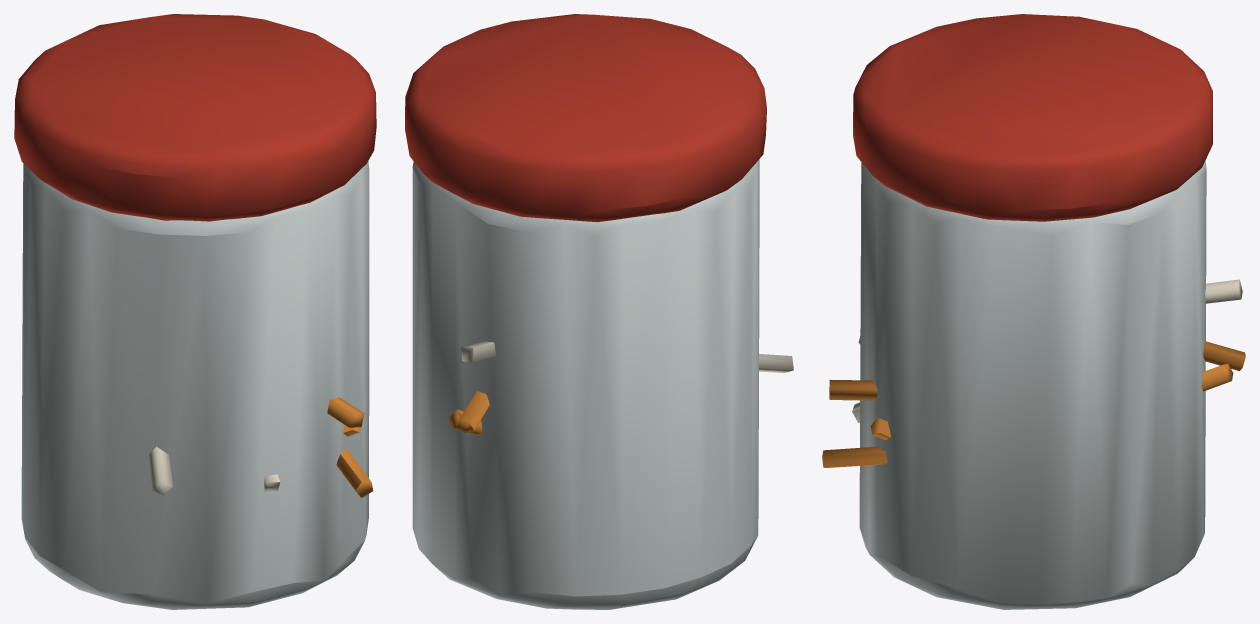
The model's file is hu_do_chua.glb.
3 renders of one model, left to right at view 1: azimuth 30°, elevation 25°; view 2: azimuth 150°, elevation 25°; view 3: azimuth 270°, elevation 25°, orthographic.
Parts seen in each view (by area): view 1: hu_do_chua; view 2: hu_do_chua; view 3: hu_do_chua.
Part boxes in pixels (left/top/right/bottom): hu_do_chua: left=14, top=14, right=376, bottom=609; hu_do_chua: left=405, top=14, right=793, bottom=609; hu_do_chua: left=822, top=14, right=1245, bottom=609.
Bounding box in the file's own units: 0.1458 × 0.2099 × 0.1708.
